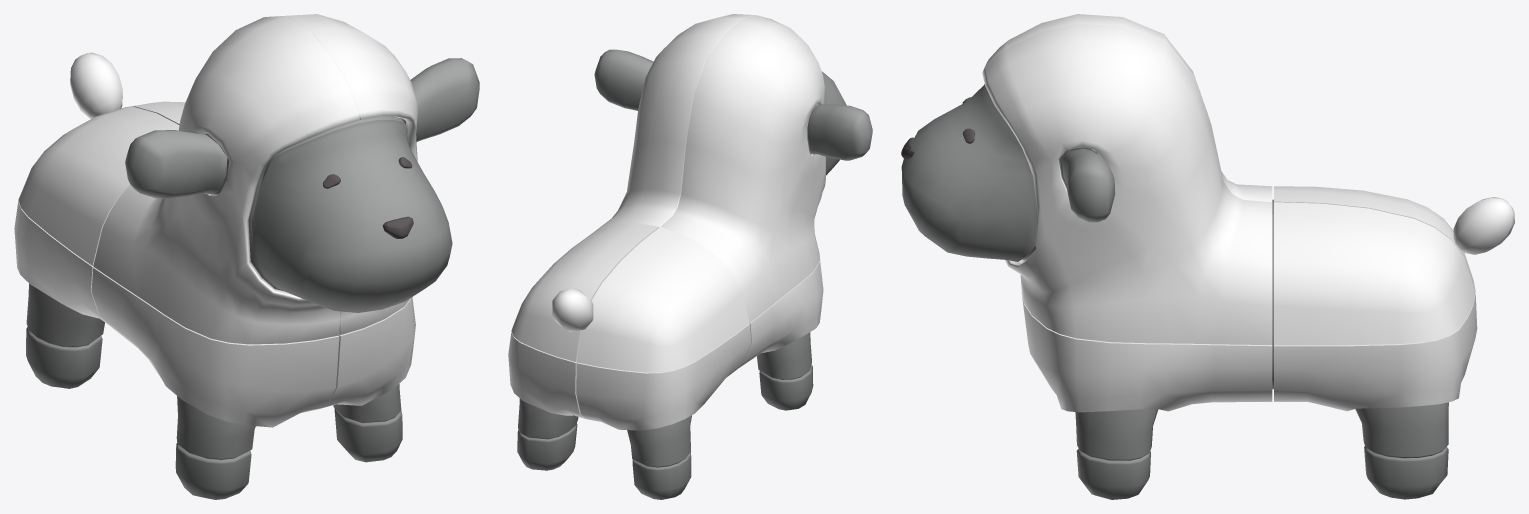
The model's file is Level_P_16.fbx.
3 views of the same model, side by side, from view 1: azimuth 30°, elevation 25°; view 2: azimuth 150°, elevation 25°; view 3: azimuth 270°, elevation 25° (orthographic). The views are drawn at different scales.
Parts seen in each view (by area): view 1: polySurface188.001, polySurface163, polySurface189.001, polySurface191.001, polySurface188, polySurface167, polySurface189, polySurface190.001, polySurface164, polySurface174, polySurface180, polySurface176 (+6 smaller); view 2: polySurface188.001, polySurface191.001, polySurface188, polySurface190.001, polySurface191, polySurface190, polySurface189.001, polySurface167, polySurface164, polySurface180, polySurface176, polySurface176.001 (+5 smaller); view 3: polySurface188, polySurface191, polySurface163, polySurface189, polySurface190, polySurface180.001, polySurface174.001, polySurface191.001, polySurface176.001, polySurface164, polySurface173.001, pSphere1 (+1 smaller).
Part boxes in pixels (bbox=[...]): polySurface188.001: bbox=[93, 16, 360, 344]; polySurface163: bbox=[252, 116, 452, 312]; polySurface189.001: bbox=[91, 267, 339, 427]; polySurface191.001: bbox=[18, 106, 179, 265]; polySurface188: bbox=[265, 14, 417, 334]; polySurface167: bbox=[125, 130, 227, 198]; polySurface189: bbox=[321, 297, 415, 408]; polySurface190.001: bbox=[14, 201, 107, 323]; polySurface164: bbox=[403, 58, 479, 141]; polySurface174: bbox=[176, 396, 255, 459]; polySurface180: bbox=[26, 283, 104, 347]; polySurface176: bbox=[26, 327, 102, 388]; polySurface188.001: bbox=[661, 15, 826, 322]; polySurface191.001: bbox=[577, 227, 749, 372]; polySurface188: bbox=[592, 14, 756, 233]; polySurface190.001: bbox=[576, 324, 751, 430]; polySurface191: bbox=[511, 223, 659, 361]; polySurface190: bbox=[508, 332, 585, 418]; polySurface189.001: bbox=[738, 261, 823, 368]; polySurface167: bbox=[807, 104, 872, 160]; polySurface164: bbox=[594, 49, 653, 110]; polySurface180: bbox=[627, 415, 691, 467]; polySurface176: bbox=[632, 452, 691, 499]; polySurface176.001: bbox=[517, 423, 577, 470]; polySurface188: bbox=[982, 23, 1272, 344]; polySurface191: bbox=[1274, 202, 1475, 345]; polySurface163: bbox=[901, 84, 1037, 261]; polySurface189: bbox=[1021, 293, 1272, 412]; polySurface190: bbox=[1274, 294, 1477, 411]; polySurface180.001: bbox=[1355, 402, 1448, 458]; polySurface174.001: bbox=[1075, 409, 1158, 460]; polySurface191.001: bbox=[1274, 186, 1475, 291]; polySurface176.001: bbox=[1364, 446, 1448, 499]; polySurface164: bbox=[1061, 148, 1115, 222]; polySurface173.001: bbox=[1076, 448, 1150, 499]; pSphere1: bbox=[1453, 197, 1514, 254].
Bounding box in the file's own units: 2.28 × 2.87 × 3.67.
